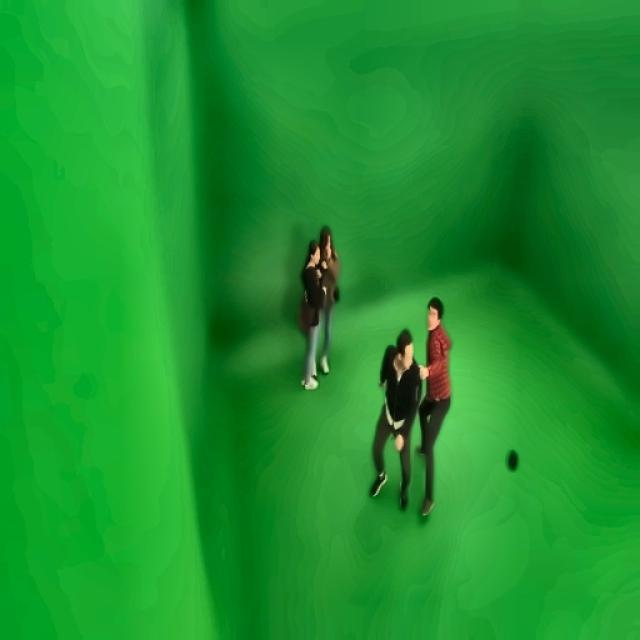non-violence: (298, 225, 338, 390)
violence: (369, 298, 452, 516)
